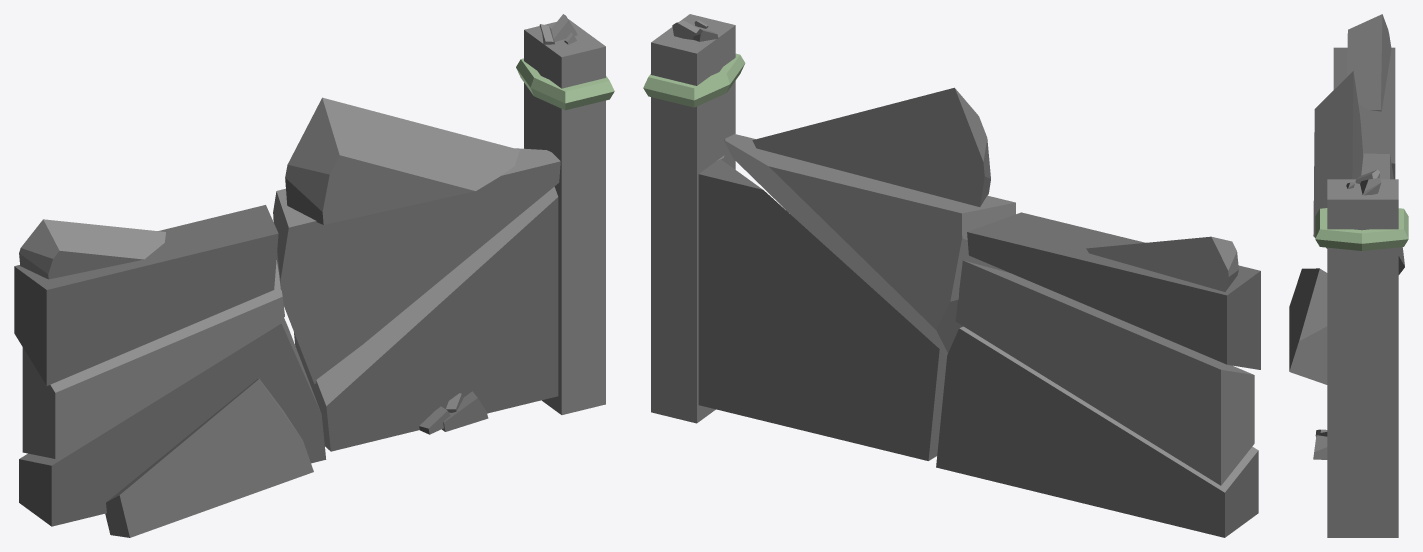
File: wall_one_side.glb
The picture shows the model from 3 angles, left to right: view 1: azimuth 30°, elevation 25°; view 2: azimuth 150°, elevation 25°; view 3: azimuth 270°, elevation 25°; orthographic projection. The views are drawn at different scales.
Parts seen in each view (by area): view 1: Wall 2.1; view 2: Wall 2.1; view 3: Wall 2.1.
Part boxes in pixels (left/top/right/bottom): Wall 2.1: left=14, top=14, right=614, bottom=537; Wall 2.1: left=643, top=14, right=1260, bottom=537; Wall 2.1: left=1289, top=14, right=1408, bottom=537.
Size of the model in its own units: 10.31 by 6.66 by 1.99.
